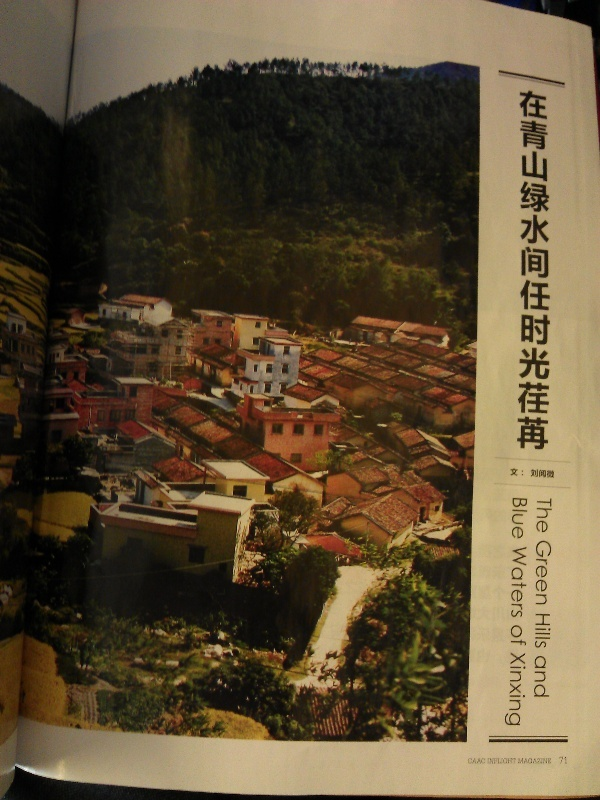text: (529, 86, 544, 451), (518, 86, 528, 451), (545, 86, 551, 451), (513, 547, 528, 618), (513, 652, 527, 726), (513, 497, 528, 540), (505, 652, 512, 726), (536, 541, 544, 605), (545, 541, 552, 605), (534, 656, 544, 698), (545, 498, 554, 534), (513, 625, 527, 648), (535, 613, 544, 648), (536, 498, 544, 534), (545, 613, 552, 648), (545, 656, 550, 698), (513, 468, 528, 479), (529, 468, 544, 479), (510, 547, 512, 618), (545, 468, 556, 479), (529, 758, 544, 765), (467, 758, 480, 765), (497, 758, 512, 764), (518, 758, 528, 765), (561, 756, 568, 765), (545, 758, 553, 765), (487, 758, 496, 764), (510, 625, 512, 648), (529, 497, 530, 540), (481, 758, 487, 765), (513, 758, 517, 764), (510, 468, 512, 479), (559, 756, 560, 765)
